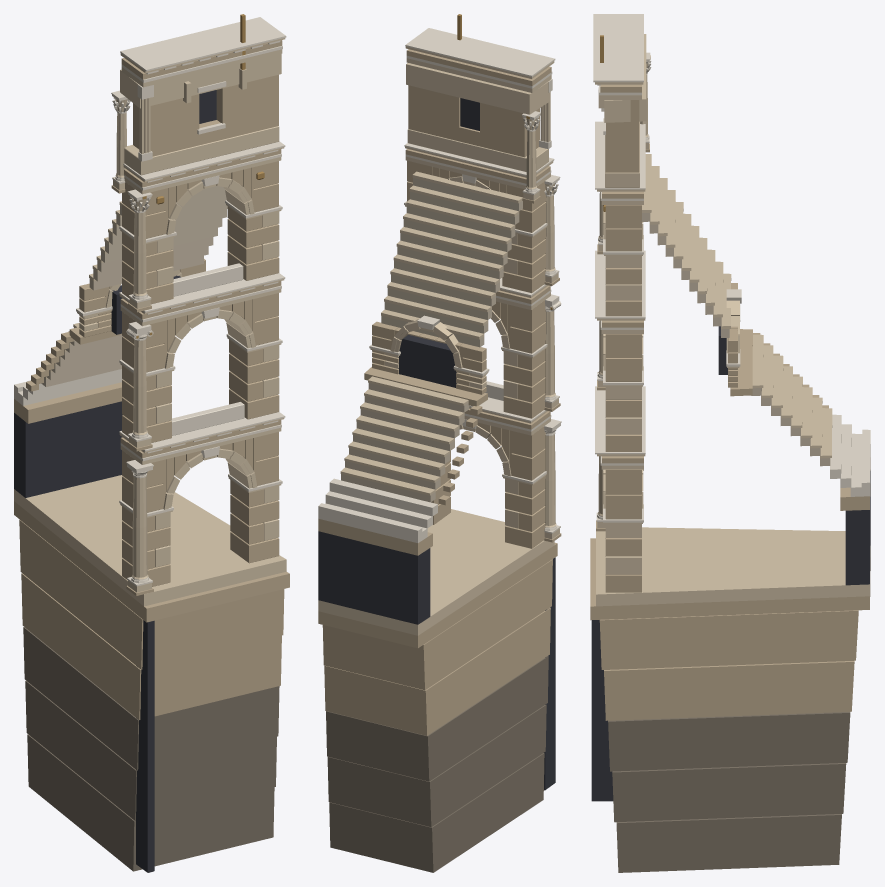
The model's file is UMOD_03_Vomitorium_Cavea_Bay.fbx.
The picture shows the model from 3 angles, left to right: view 1: azimuth 30°, elevation 25°; view 2: azimuth 150°, elevation 25°; view 3: azimuth 270°, elevation 25°; orthographic projection. The views are drawn at different scales.
Parts seen in each view (by area): view 1: UMOD_03_Vomitorium_Cavea_Bay; view 2: UMOD_03_Vomitorium_Cavea_Bay; view 3: UMOD_03_Vomitorium_Cavea_Bay.
Part boxes in pixels (x1,y1,x2,y2): UMOD_03_Vomitorium_Cavea_Bay: (14, 14, 289, 872); UMOD_03_Vomitorium_Cavea_Bay: (318, 14, 561, 872); UMOD_03_Vomitorium_Cavea_Bay: (590, 14, 870, 872).
Size of the model in its own units: 18.31 by 96.54 by 29.97.
